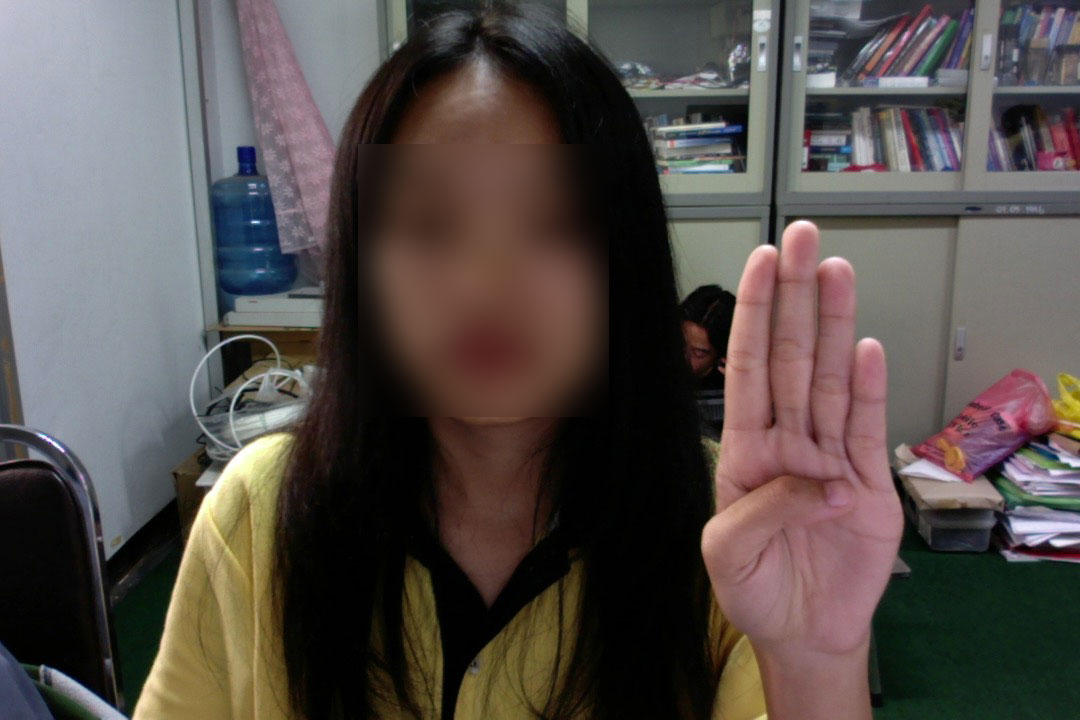bor: (690, 216, 912, 651)
